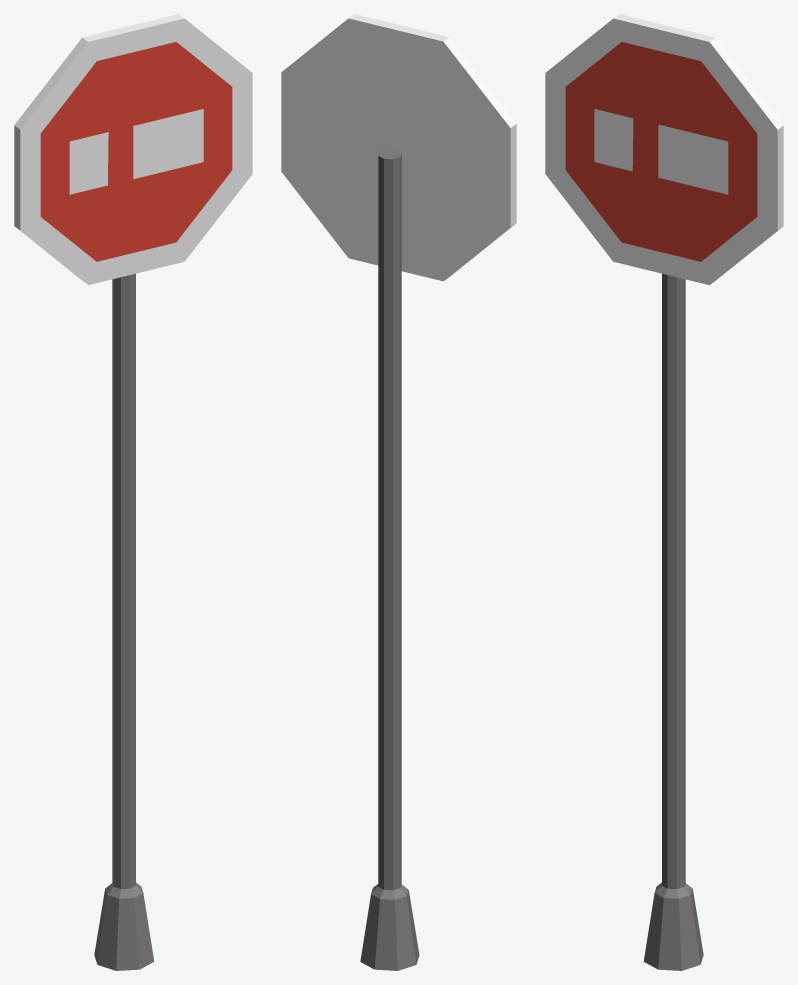
The model's file is apocalypse_traffic-sign-stop.fbx.
3 views of the same model, side by side, from view 1: azimuth 30°, elevation 25°; view 2: azimuth 150°, elevation 25°; view 3: azimuth 330°, elevation 25° (orthographic).
Parts seen in each view (by area): view 1: apocalypse_traffic_sign_stop; view 2: apocalypse_traffic_sign_stop; view 3: apocalypse_traffic_sign_stop.
Part boxes in pixels (x1,y1,x2,y2): apocalypse_traffic_sign_stop: (14,14,252,970); apocalypse_traffic_sign_stop: (281,14,516,970); apocalypse_traffic_sign_stop: (545,14,783,970).
Size of the model in its own units: 51.93 by 200 by 12.01.
